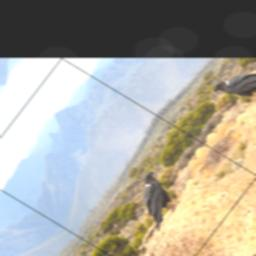Crow: (118, 167, 192, 234)
